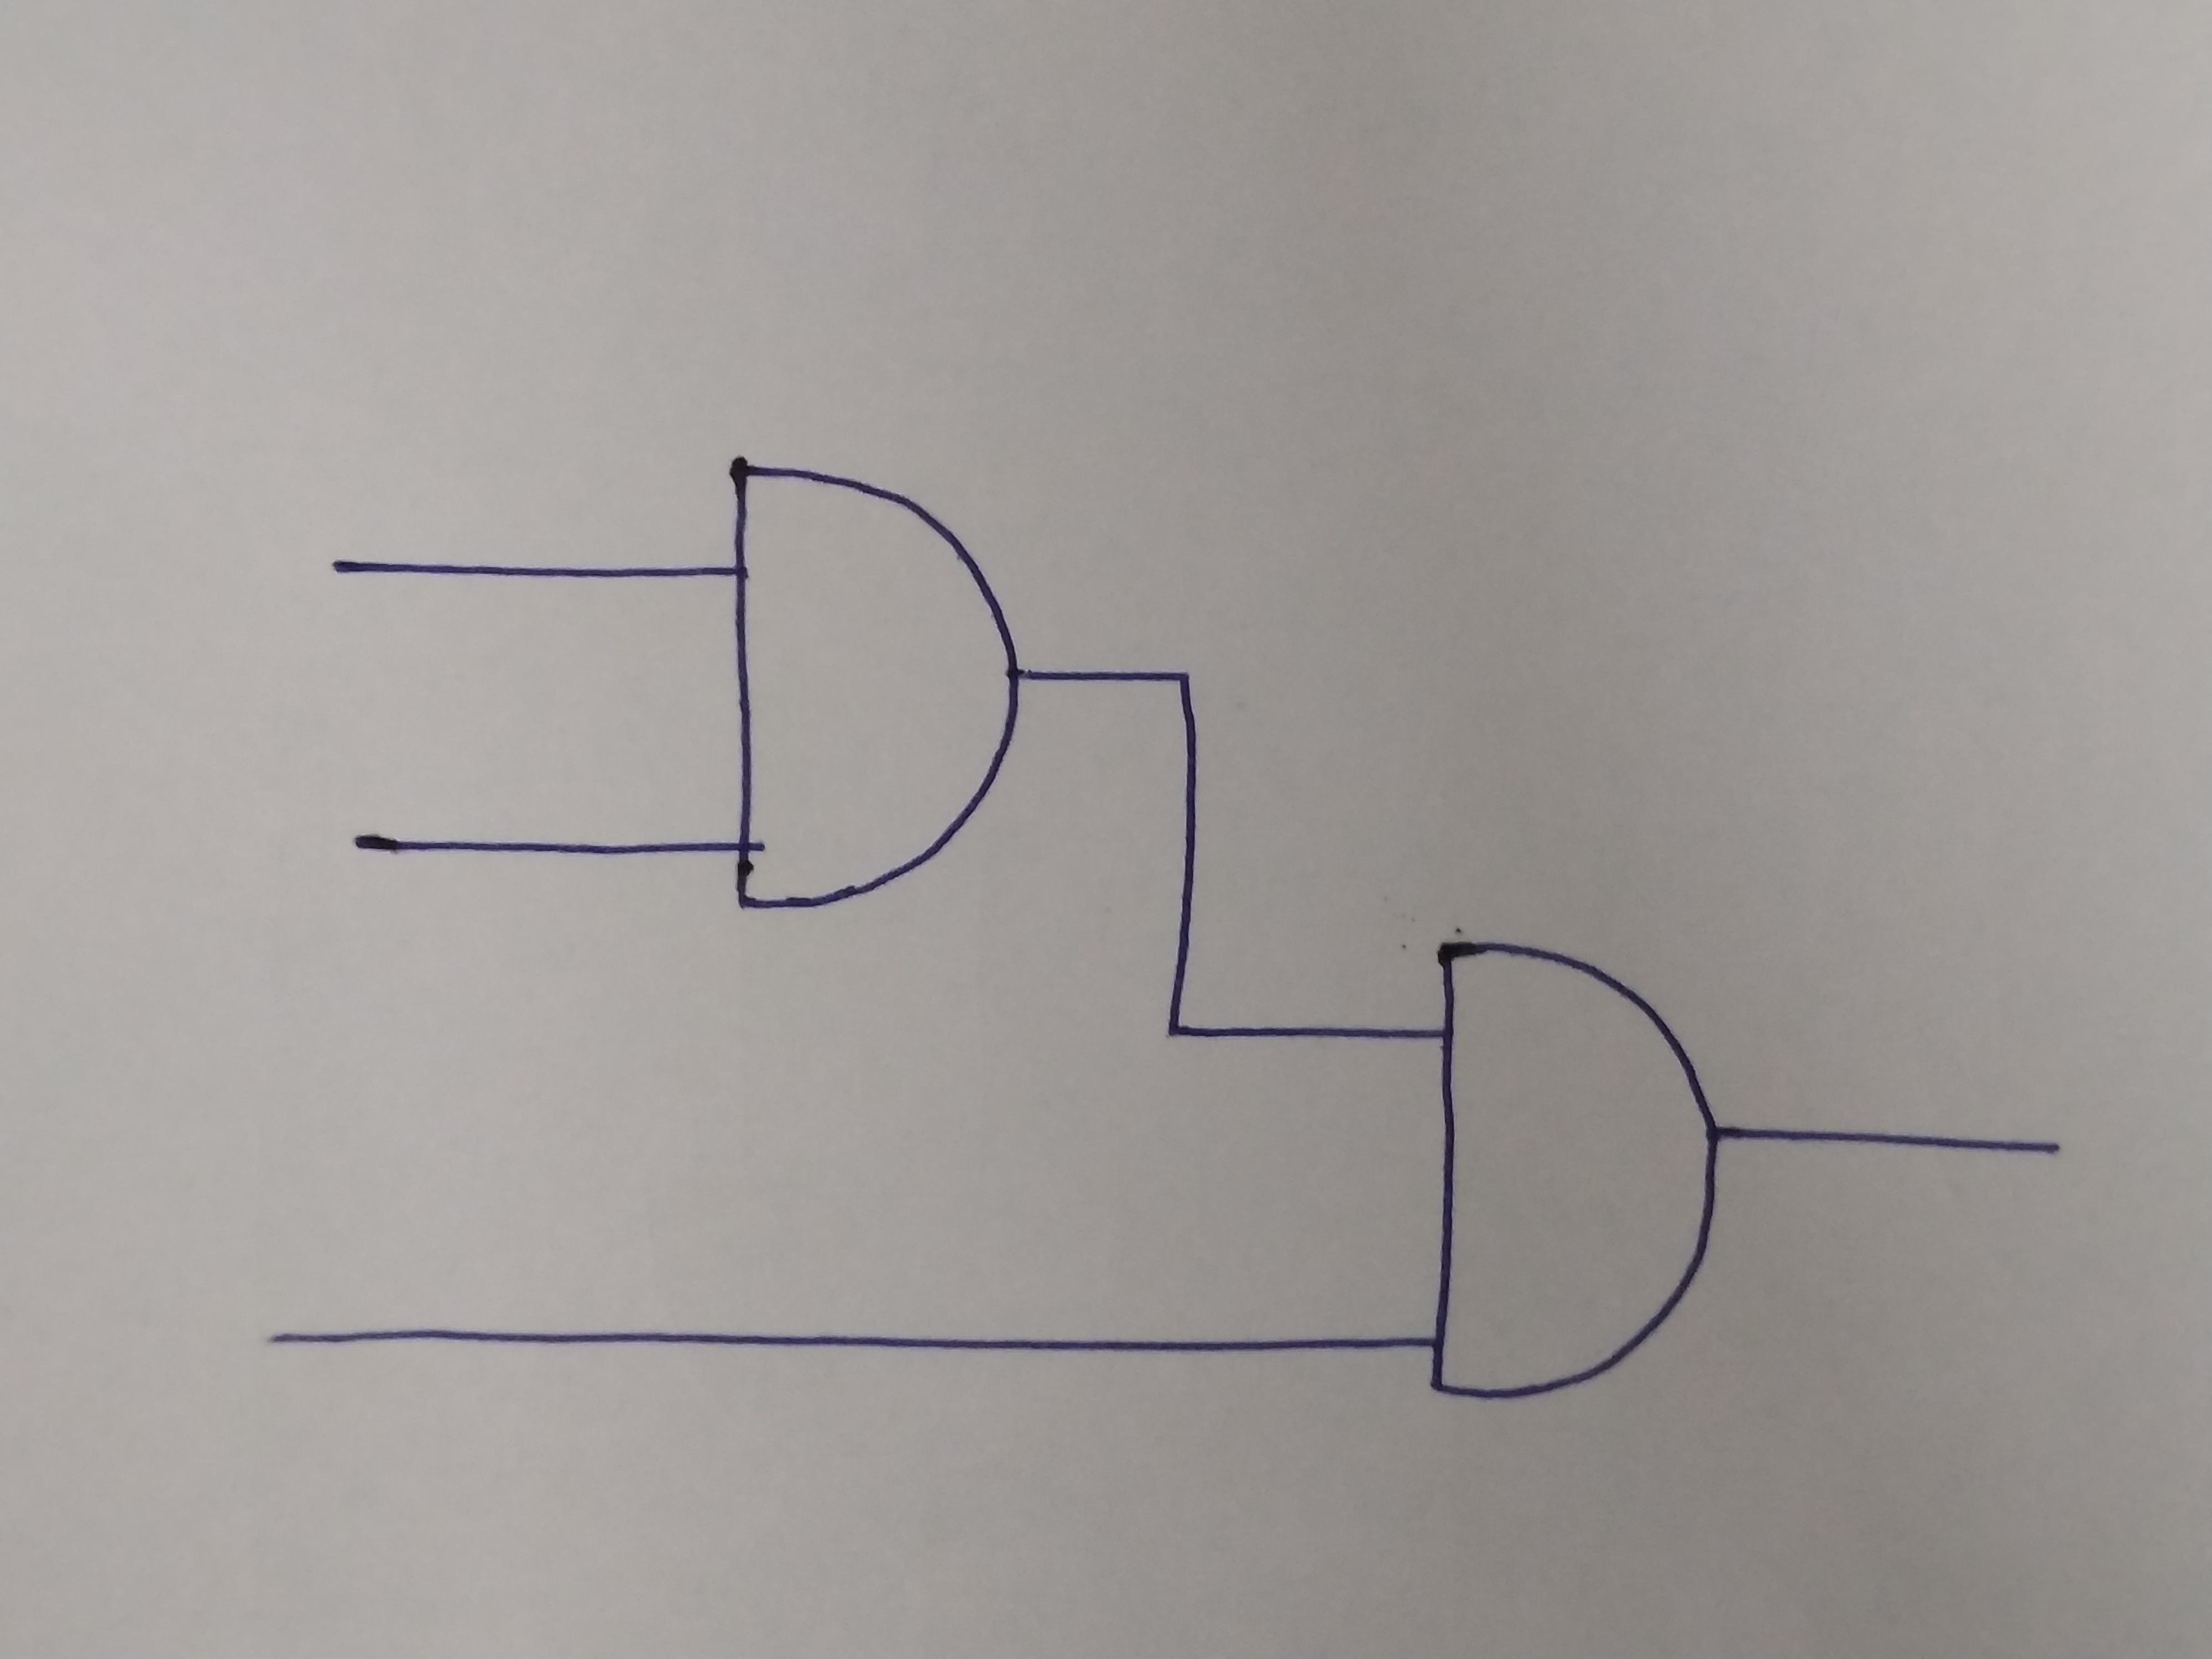and: (728, 469, 1019, 903), (1442, 941, 1717, 1394)
